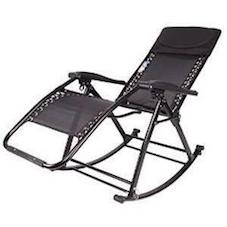chair: (3, 8, 223, 217)
